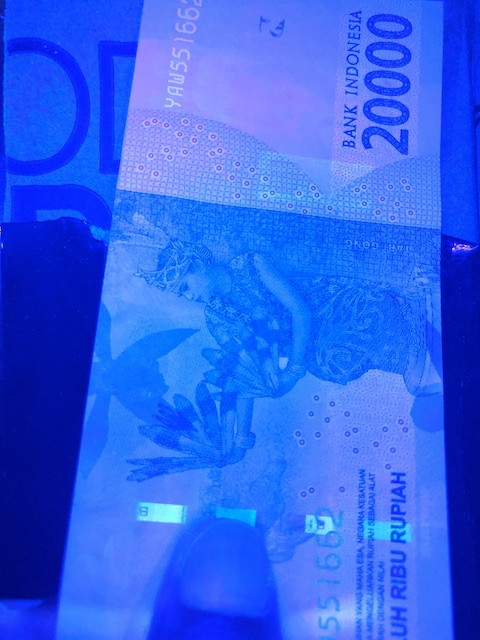PITA_BERSINAR: (130, 496, 406, 545)
